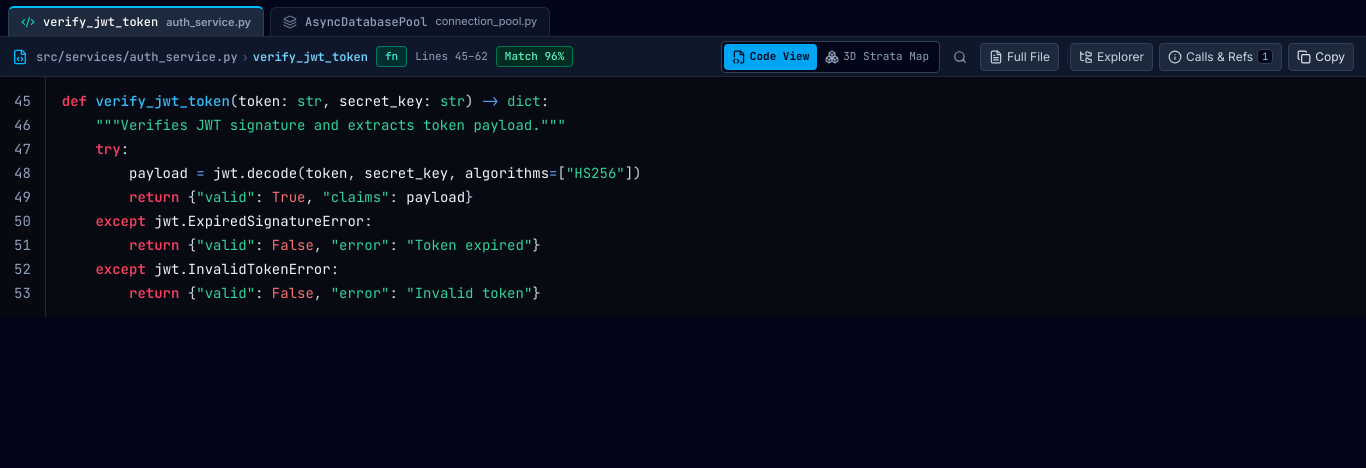
Scenario: 3D Layered Strata Code Dependency Model Integration Suite › 1. View Mode Toggling between Code View and 3D Strata View › toggles seamlessly between CodeDisplay and 3D Strata Map in CodeViewerContainer
The width and height of the screenshot is (1366, 468).
Check: the element with test id "code-display" is shown, box 0,77 -> 1365,317
Note: Switch to 3D Strata View
Click the button with test id "view-mode-strata-btn": click(877, 56) 817,44 -> 937,70
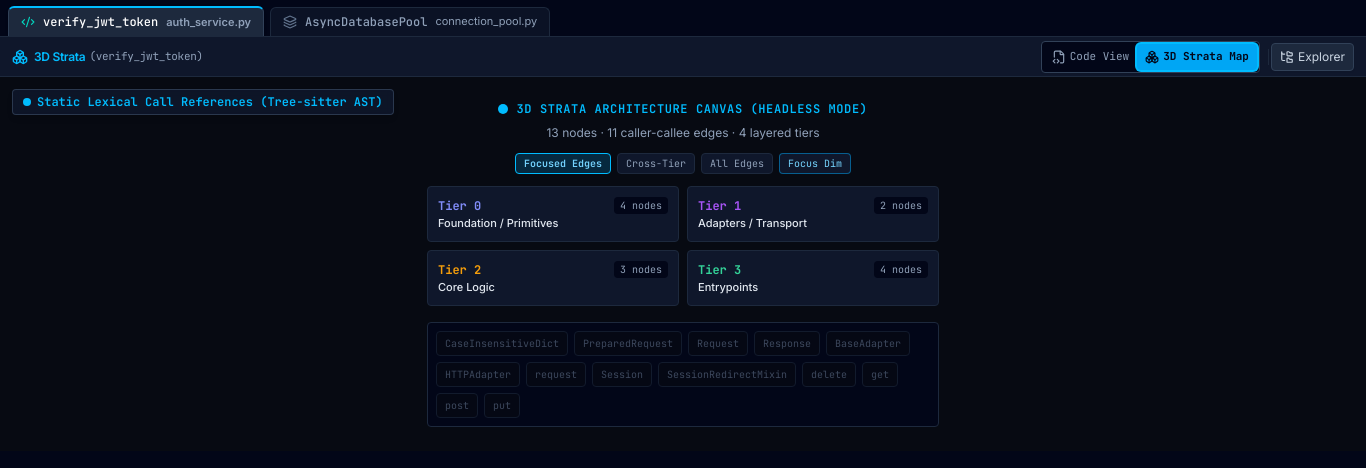
Check: the element with test id "strata-canvas" is shown
Check: the element with test id "code-display" is gone
Check: the element with test id "strata-call-reference-label" is shown, box 12,89 -> 394,115
Note: Switch back to Code View
Click the button with test id "view-mode-code-btn": click(1090, 56) 1044,44 -> 1137,70
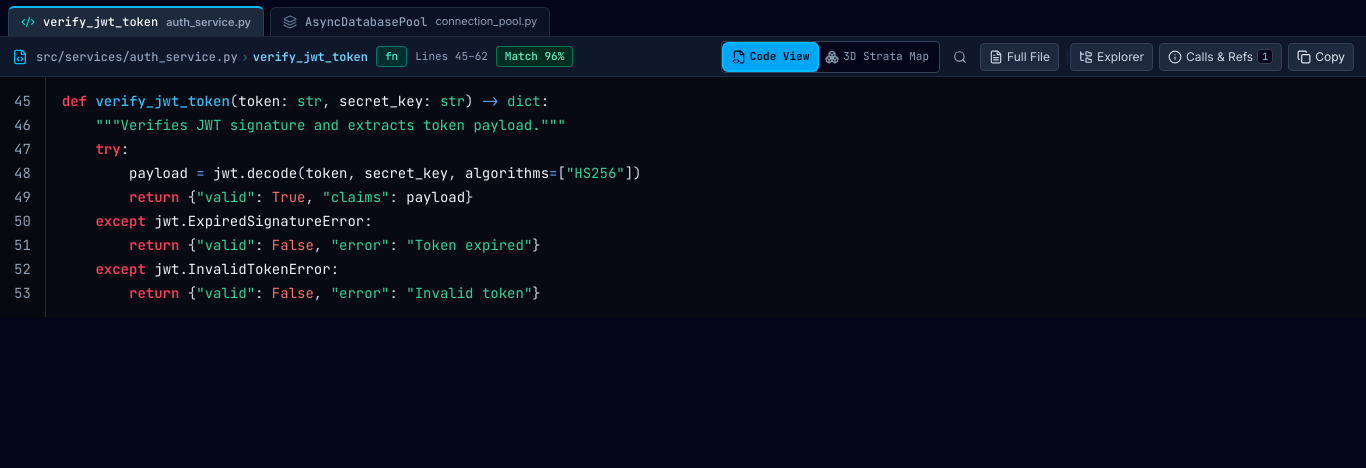
Check: the element with test id "code-display" is shown, box 0,77 -> 1365,317
Check: the element with test id "strata-canvas" is gone
